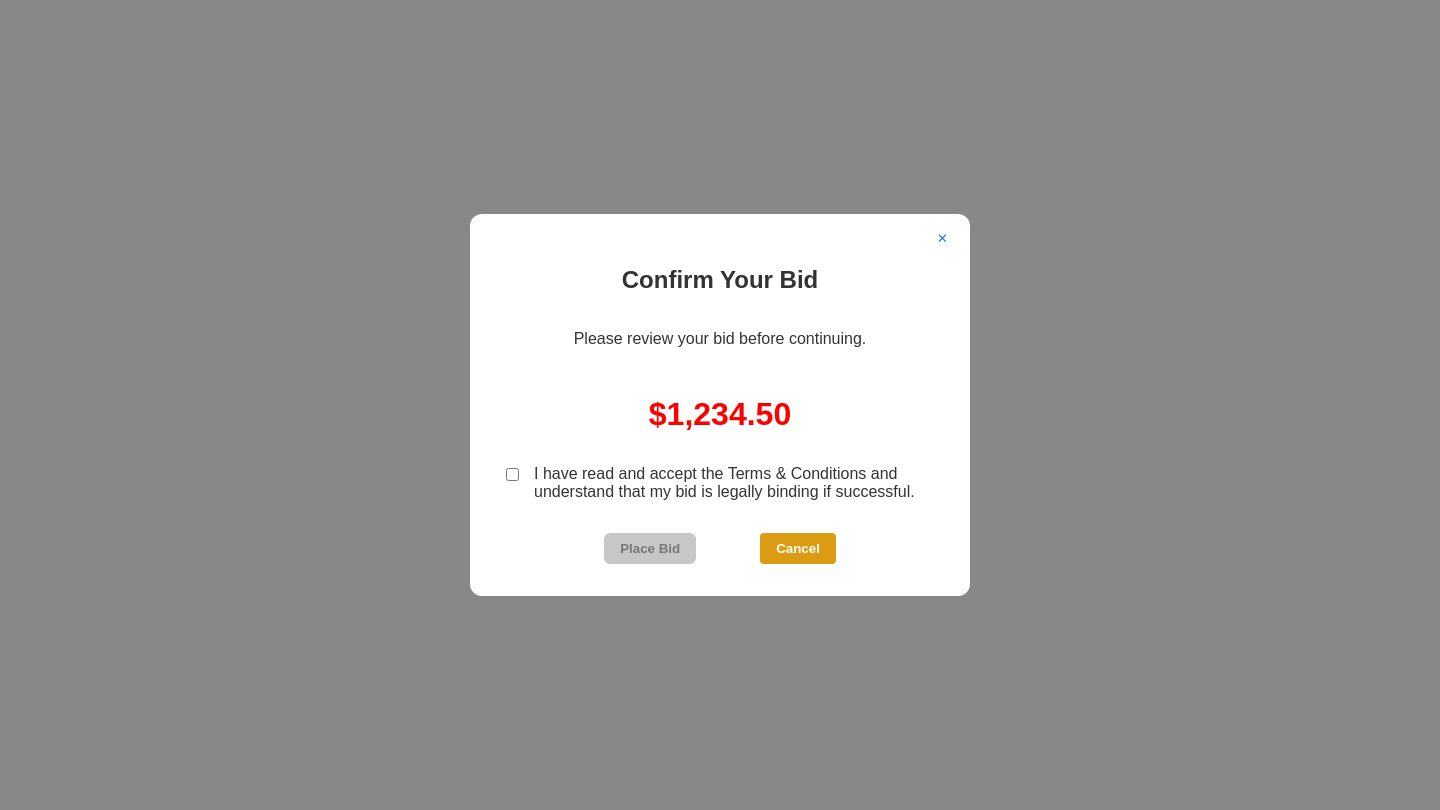
Test: BidConfirmationModal › goes back to disabled if the terms are un-ticked
This screenshot has width=1440, height=810.
Click the checkbox at (512, 474), box [506,468,519,481]
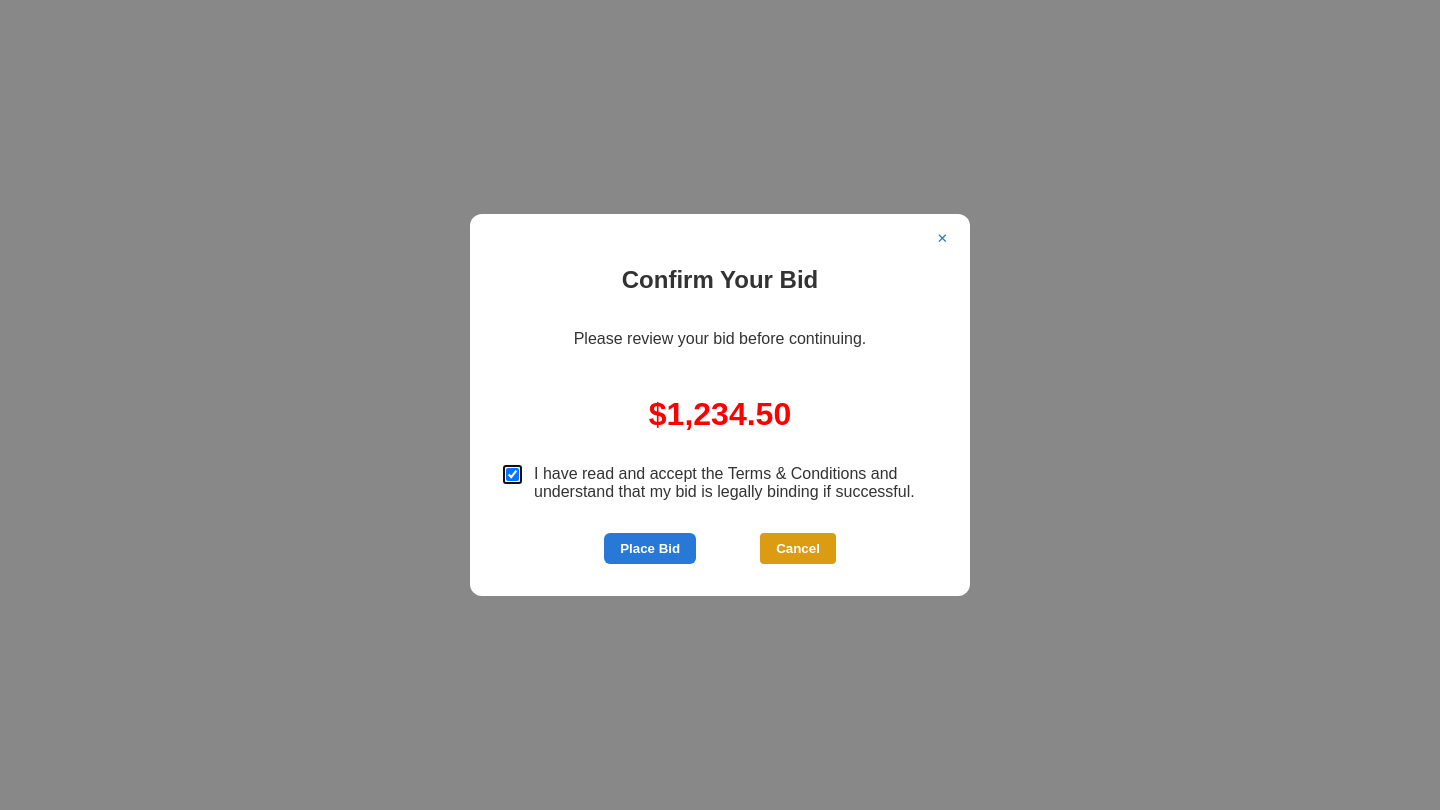
Click the checkbox at (512, 474), box [506,468,519,481]
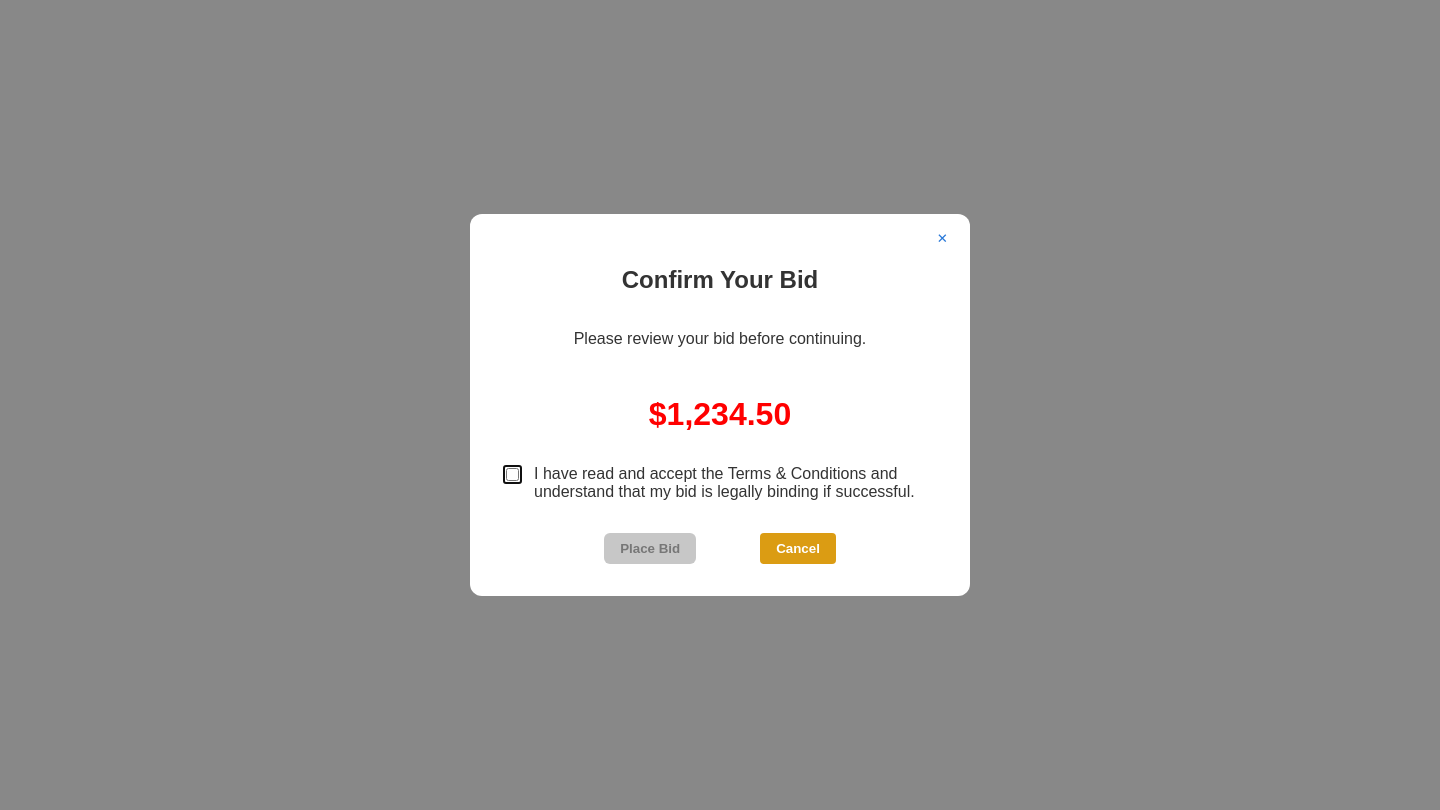
Expected: the button "Place Bid" is disabled, [604,533,696,564]
